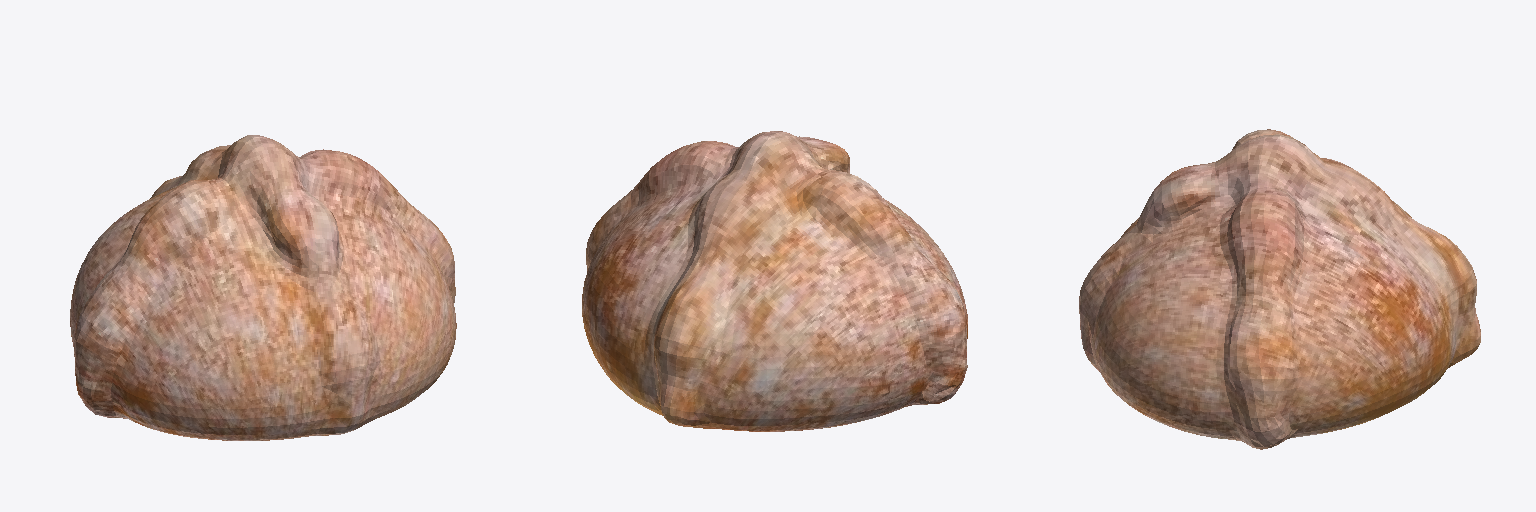
3 views of the same model, side by side, from view 1: azimuth 30°, elevation 25°; view 2: azimuth 150°, elevation 25°; view 3: azimuth 270°, elevation 25° (orthographic).
Parts seen in each view (by area): view 1: pan_muerto:pan_muerto:Group1; view 2: pan_muerto:pan_muerto:Group1; view 3: pan_muerto:pan_muerto:Group1.
Boxes of the visible parts, box(x1,y1,x2,y2) form: pan_muerto:pan_muerto:Group1: box(70, 135, 456, 440); pan_muerto:pan_muerto:Group1: box(582, 131, 967, 431); pan_muerto:pan_muerto:Group1: box(1079, 129, 1480, 449).
Size of the model in its own units: 2.57 by 1.56 by 2.39.
1 materials, 1 textured.